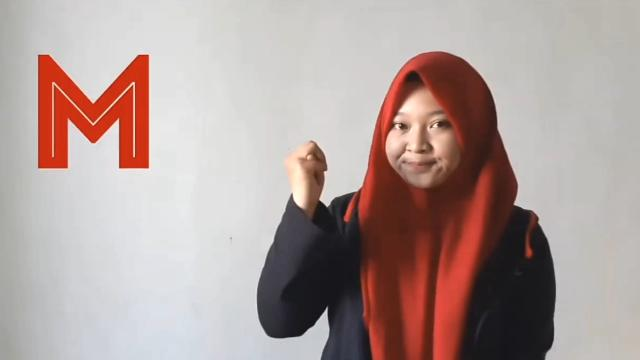M: (286, 138, 328, 206)
